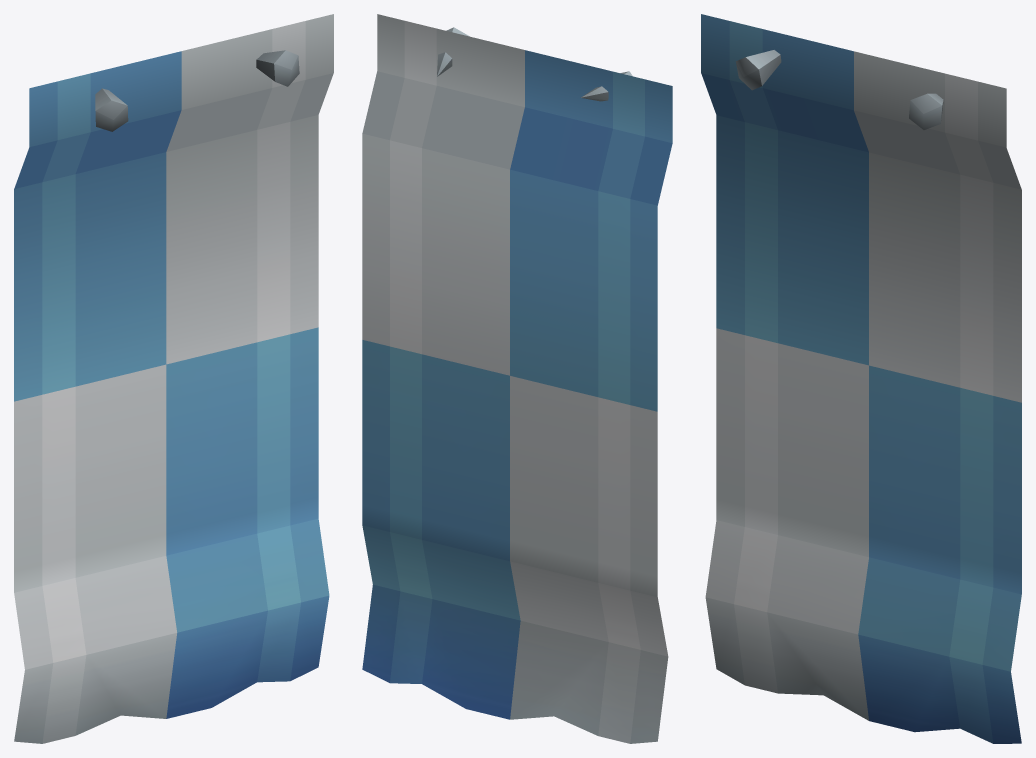
Rendered from d_kaykit_tenture_bleue.glb.
3 renders of one model, left to right at view 1: azimuth 30°, elevation 25°; view 2: azimuth 150°, elevation 25°; view 3: azimuth 330°, elevation 25°, orthographic. The views are drawn at different scales.
Parts seen in each view (by area): view 1: d_kaykit_tenture_bleue; view 2: d_kaykit_tenture_bleue; view 3: d_kaykit_tenture_bleue.
Boxes of the visible parts, x1,y1,x2,y2 form: d_kaykit_tenture_bleue: [14, 14, 333, 743]; d_kaykit_tenture_bleue: [362, 14, 672, 743]; d_kaykit_tenture_bleue: [701, 14, 1021, 743].
Size of the model in its own units: 1.5 by 3.2 by 0.3117.
1 material, 1 textured.
